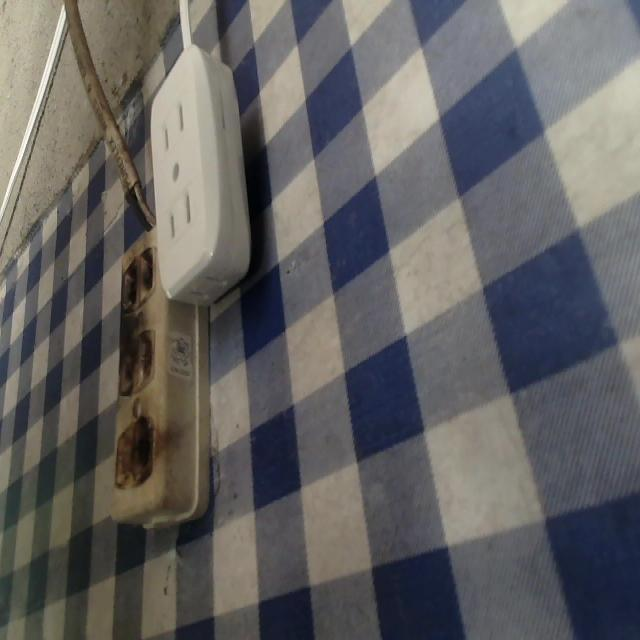-: (109, 417, 162, 496), (117, 246, 165, 318), (114, 335, 157, 405)
